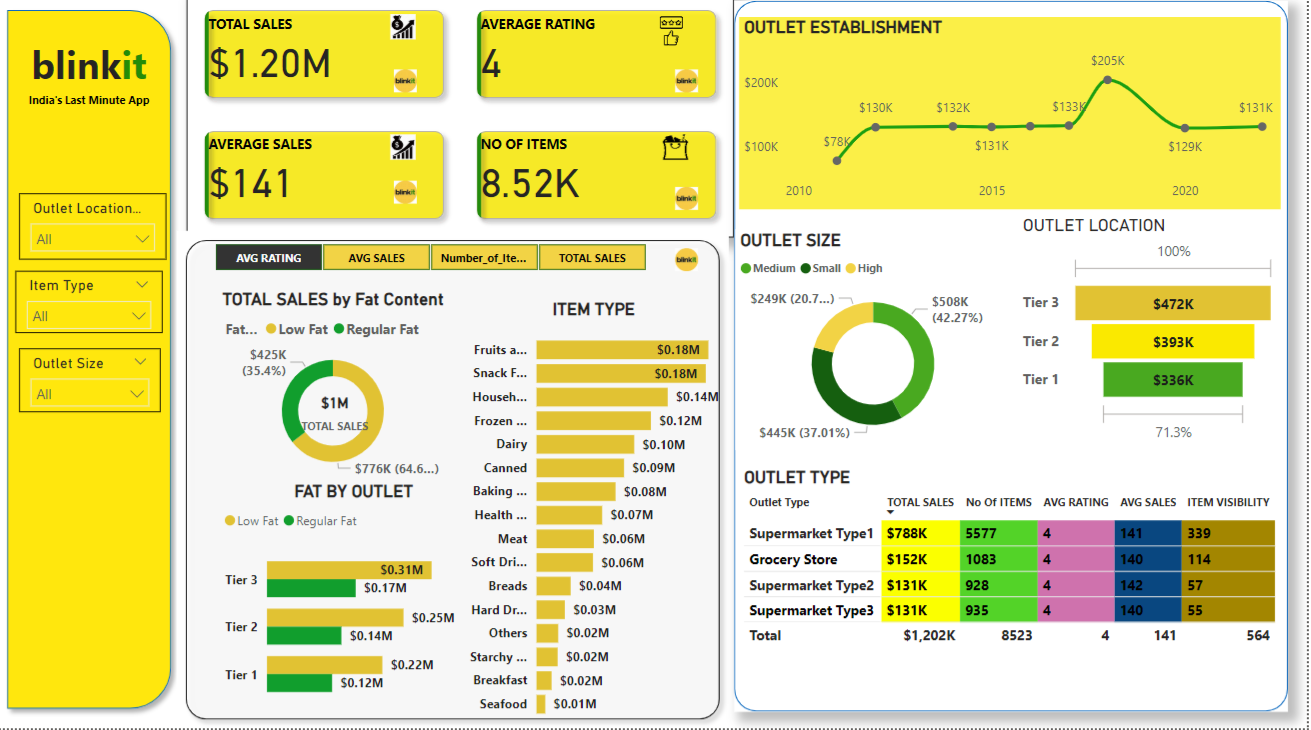

The page's visual inventory and layout, read from the dashboard file:
{"tool":"powerbi","page":{"name":"Page 1","canvas":[1280,720],"ordinal":0},"visuals":[{"type":"shape","box":[0,8.2,178.4,701.2],"z":0},{"type":"textbox","box":[14.9,40.6,149,92.1],"z":1000},{"type":"textbox","box":[238.8,8.2,178.4,32.9],"z":2000},{"type":"cardVisual","fields":{"Data":["Sum(BlinkIT Grocery Data.Sales)","Avg(BlinkIT Grocery Data.Rating)","Avg(BlinkIT Grocery Data.Sales)","BlinkIT Grocery Data.Number_of_Items"]},"box":[184.3,0,535.1,239.8],"z":3000},{"type":"shape","box":[174.4,233.5,540.1,486.7],"z":4000},{"type":"donutChart","fields":{"Category":["BlinkIT Grocery Data.Item Fat Content"],"Y":["Sum(BlinkIT Grocery Data.Sales)"]},"box":[214.1,289.9,227.6,191],"z":5000},{"type":"clusteredBarChart","title":"FAT BY OUTLET","fields":{"Category":["BlinkIT Grocery Data.Outlet Location Type"],"Series":["BlinkIT Grocery Data.Item Fat Content"],"Y":["Sum(BlinkIT Grocery Data.Sales)"]},"box":[216.6,478.2,263,232.1],"z":6000},{"type":"barChart","title":"ITEM TYPE","fields":{"Category":["BlinkIT Grocery Data.Item Type"],"Y":["Sum(BlinkIT Grocery Data.Sales)"]},"box":[444.5,299.6,275.7,420.6],"z":7000},{"type":"shape","box":[720.2,8.4,541.5,694.9],"z":8000},{"type":"donutChart","title":"OUTLET SIZE","fields":{"Y":["Sum(BlinkIT Grocery Data.Sales)"],"Category":["BlinkIT Grocery Data.Outlet Size"]},"box":[720.7,231.7,269.6,215.4],"z":9000},{"type":"slicer","fields":{"Values":["Parameter.Parameter"]},"box":[187,239.8,470.1,39.3],"z":10000},{"type":"lineChart","title":"OUTLET  ESTABLISHMENT","fields":{"Category":["BlinkIT Grocery Data.Outlet Establishment Year"],"Y":["Sum(BlinkIT Grocery Data.Sales)"]},"box":[724.8,24.4,529.7,188.3],"z":11000},{"type":"funnel","title":"OUTLET LOCATION","fields":{"Category":["BlinkIT Grocery Data.Outlet Location Type"],"Y":["BlinkIT Grocery Data.TOTAL SALES"]},"box":[997.1,218.1,257.4,229],"z":12000},{"type":"pivotTable","title":"OUTLET TYPE","fields":{"Rows":["BlinkIT Grocery Data.Outlet Type"],"Values":["BlinkIT Grocery Data.TOTAL SALES","BlinkIT Grocery Data.Number_of_Items","BlinkIT Grocery Data.AVG RATING","BlinkIT Grocery Data.AVG SALES","Sum(BlinkIT Grocery Data.Item Visibility)"]},"box":[724.8,464.7,533.8,211.3],"z":13000},{"type":"card","fields":{"Values":["BlinkIT Grocery Data.TOTAL SALES"]},"box":[289.9,386.1,79.9,47.4],"z":14000},{"type":"slicer","fields":{"Values":["BlinkIT Grocery Data.Item Type"]},"box":[17.6,272.3,143.6,61],"z":15000},{"type":"slicer","fields":{"Values":["BlinkIT Grocery Data.Outlet Location Type"]},"box":[20.3,196.4,143.6,65],"z":16000},{"type":"slicer","fields":{"Values":["BlinkIT Grocery Data.Outlet Size"]},"box":[20.3,348.2,138.2,62.3],"z":17000},{"type":"image","box":[375.3,70.4,46.1,32.5],"z":18000},{"type":"image","box":[650.3,185.6,46.1,32.5],"z":19000},{"type":"image","box":[375.3,180.2,46.1,32.5],"z":20000},{"type":"image","box":[650.3,70.4,46.1,32.5],"z":21000},{"type":"image","box":[650.3,245.2,46.1,32.5],"z":22000}]}

Visuals, with their boxes in screenshot pixels (x1, y1, x2, y2), scaled from the page's 1280x720 canvas onto the 1311x730 screenshot:
shape: [0,8,183,719]
textbox: [15,41,168,135]
textbox: [245,8,427,42]
cardVisual - Sum(BlinkIT Grocery Data.Sales) x Avg(BlinkIT Grocery Data.Rating): [189,0,737,243]
shape: [179,237,732,729]
donutChart - BlinkIT Grocery Data.Item Fat Content x Sum(BlinkIT Grocery Data.Sales): [219,294,452,488]
"FAT BY OUTLET" clusteredBarChart: [222,485,491,720]
"ITEM TYPE" barChart: [455,304,738,729]
shape: [738,9,1292,713]
"OUTLET SIZE" donutChart: [738,235,1014,453]
slicer - Parameter.Parameter: [192,243,673,283]
"OUTLET  ESTABLISHMENT" lineChart: [742,25,1285,216]
"OUTLET LOCATION" funnel: [1021,221,1285,453]
"OUTLET TYPE" pivotTable: [742,471,1289,685]
card - BlinkIT Grocery Data.TOTAL SALES: [297,391,379,440]
slicer - BlinkIT Grocery Data.Item Type: [18,276,165,338]
slicer - BlinkIT Grocery Data.Outlet Location Type: [21,199,168,265]
slicer - BlinkIT Grocery Data.Outlet Size: [21,353,162,416]
image: [384,71,432,104]
image: [666,188,713,221]
image: [384,183,432,216]
image: [666,71,713,104]
image: [666,249,713,282]
